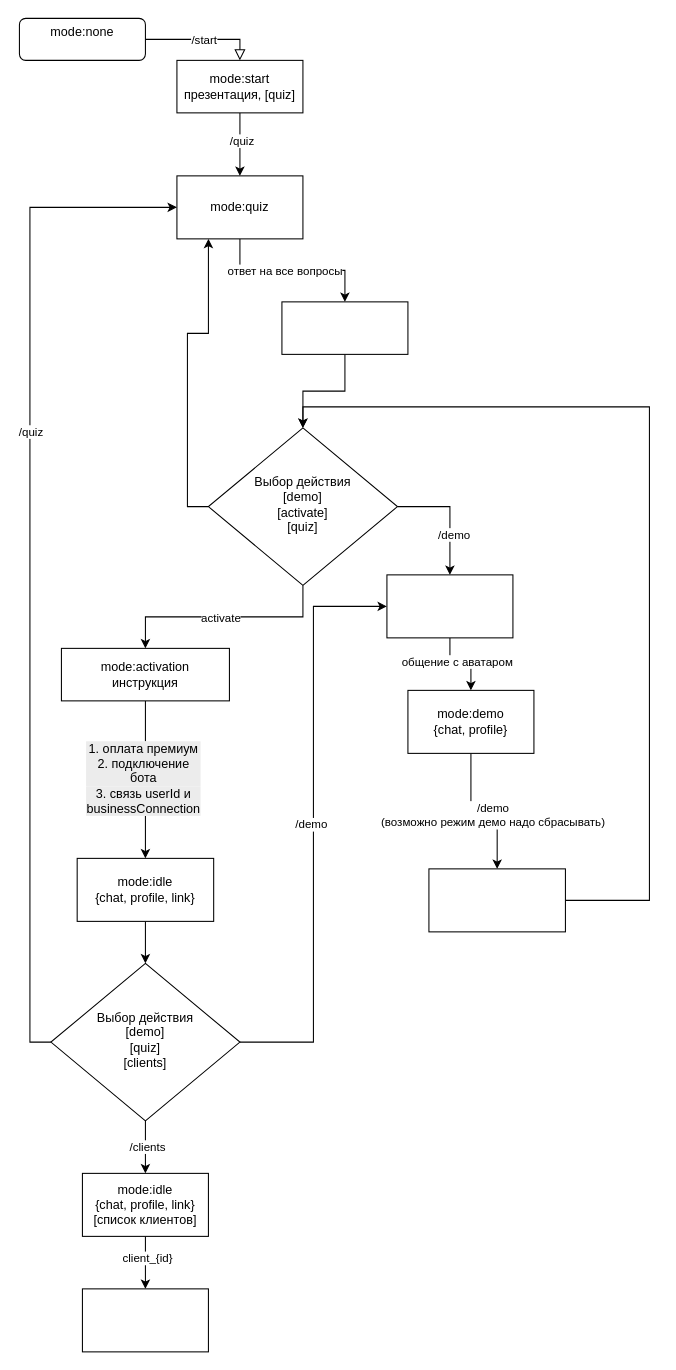
Image size: 676x1370. Some labels were removed from this diagram. The centre of each missing label's shape, as x and y in pixels:
"mode: idle карточка клиента [перейти к диалогу]" belongs at point (144, 1320).
"mode:demo {profile}" belongs at point (449, 606).
"mode:idle {chat, profile}" belongs at point (496, 900).
"mode:idle {profile}" belongs at point (344, 327).
